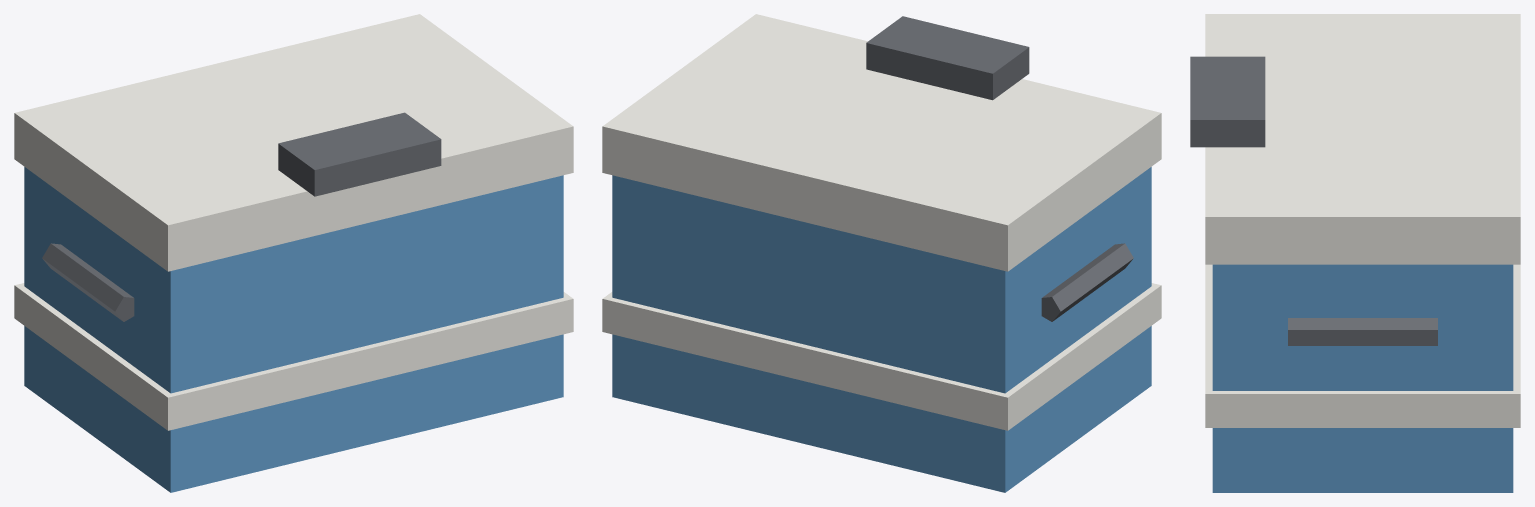
The model's file is caravan-park-and-campsite-cool-box-e9466247__35368.glb.
The picture shows the model from 3 angles, left to right: view 1: azimuth 30°, elevation 25°; view 2: azimuth 150°, elevation 25°; view 3: azimuth 270°, elevation 25°; orthographic projection. The views are drawn at different scales.
Visible parts, largest first — view 1: cool-box-azure, lid/shell, cool-box-shell, lid/charcoal, cool-box-charcoal; view 2: cool-box-azure, lid/shell, cool-box-shell, lid/charcoal, cool-box-charcoal; view 3: lid/shell, cool-box-azure, cool-box-shell, lid/charcoal, cool-box-charcoal.
Boxes of the visible parts, box(x1,y1,x2,y2) form: cool-box-azure: box(24, 167, 563, 492); lid/shell: box(14, 14, 573, 271); cool-box-shell: box(14, 283, 573, 430); lid/charcoal: box(278, 112, 441, 196); cool-box-charcoal: box(42, 243, 134, 321); cool-box-azure: box(612, 167, 1151, 492); lid/shell: box(602, 14, 1161, 271); cool-box-shell: box(602, 283, 1161, 430); lid/charcoal: box(866, 16, 1029, 100); cool-box-charcoal: box(1041, 243, 1133, 321); lid/shell: box(1205, 14, 1520, 264); cool-box-azure: box(1212, 264, 1513, 492); cool-box-shell: box(1205, 264, 1520, 427); lid/charcoal: box(1190, 56, 1265, 147); cool-box-charcoal: box(1288, 318, 1437, 345).
Size of the model in its own units: 0.6762 by 0.45 by 0.44.
